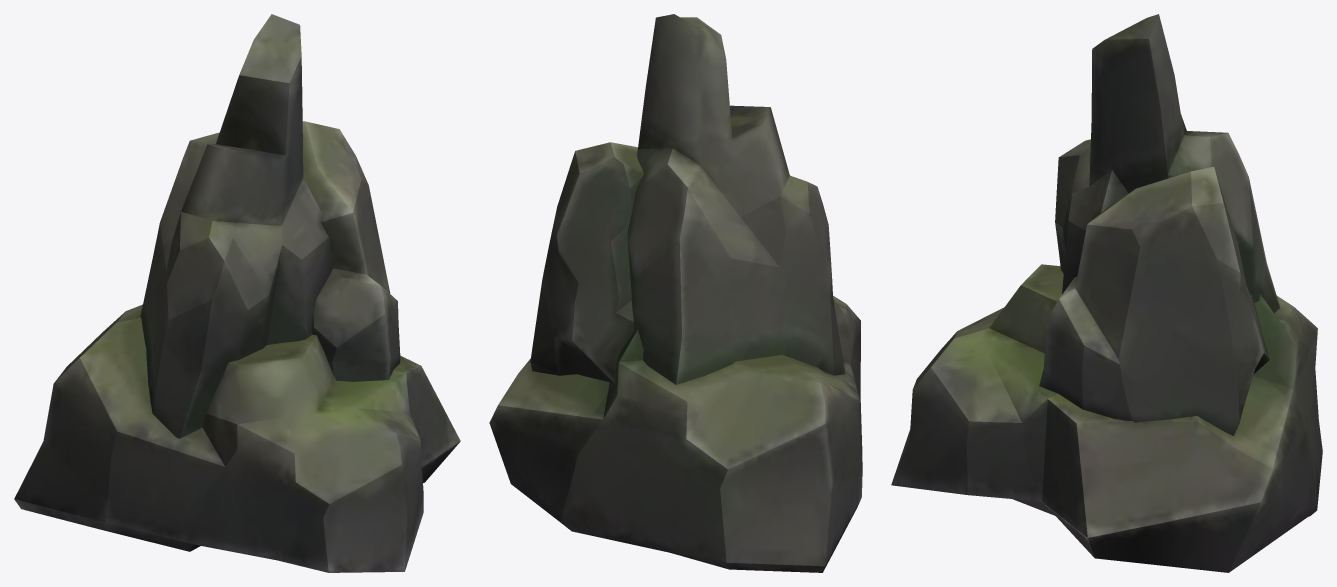
File: rock_5.glb
3 views of the same model, side by side, from view 1: azimuth 30°, elevation 25°; view 2: azimuth 150°, elevation 25°; view 3: azimuth 270°, elevation 25° (orthographic). The views are drawn at different scales.
Parts seen in each view (by area): view 1: Rock_5; view 2: Rock_5; view 3: Rock_5.
Part boxes in pixels (bbox=[...]): Rock_5: bbox=[14, 14, 460, 572]; Rock_5: bbox=[489, 14, 862, 572]; Rock_5: bbox=[891, 14, 1322, 572].
Bounding box in the file's own units: 1.29 × 1.69 × 1.32.
Materials: 1 (1 with a texture image).
